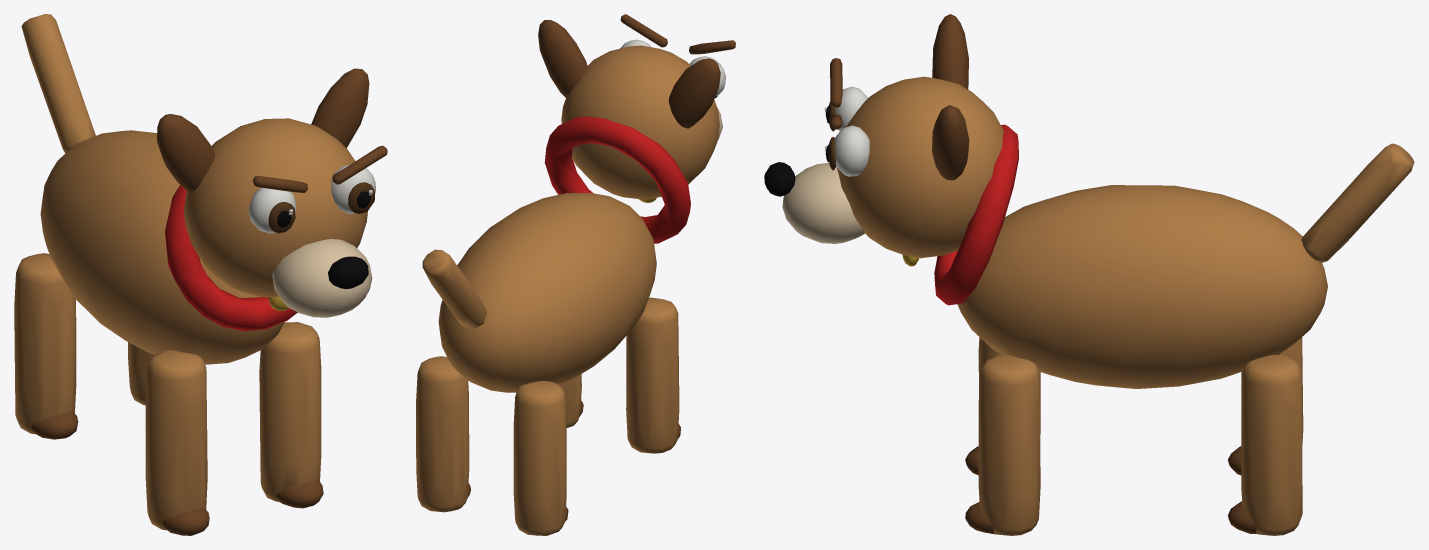
The model's file is Hofhund.fbx.
3 views of the same model, side by side, from view 1: azimuth 30°, elevation 25°; view 2: azimuth 150°, elevation 25°; view 3: azimuth 270°, elevation 25° (orthographic). The views are drawn at different scales.
Parts seen in each view (by area): view 1: Hofhund; view 2: Hofhund; view 3: Hofhund.
Boxes of the visible parts, x1,y1,x2,y2 form: Hofhund: [14, 14, 387, 535]; Hofhund: [416, 14, 735, 535]; Hofhund: [764, 14, 1414, 535].
Size of the model in its own units: 0.3701 by 0.7432 by 0.9903.
